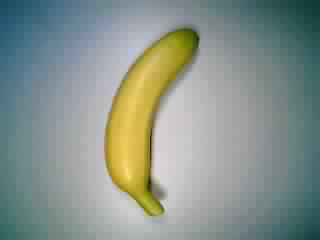banana: (96, 23, 202, 219)
